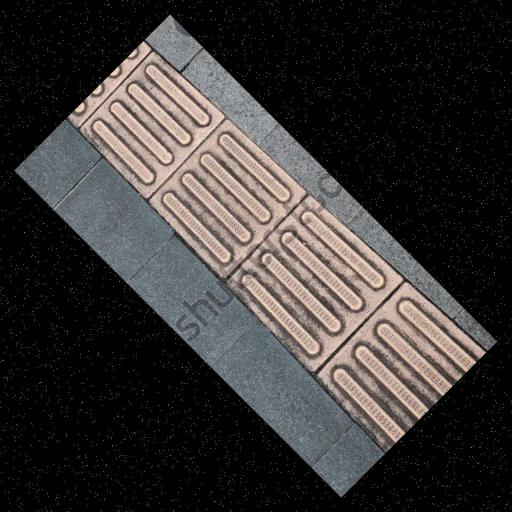line: (226, 201, 405, 376), (320, 281, 488, 451), (146, 123, 306, 277), (79, 50, 225, 200), (67, 42, 154, 123)
